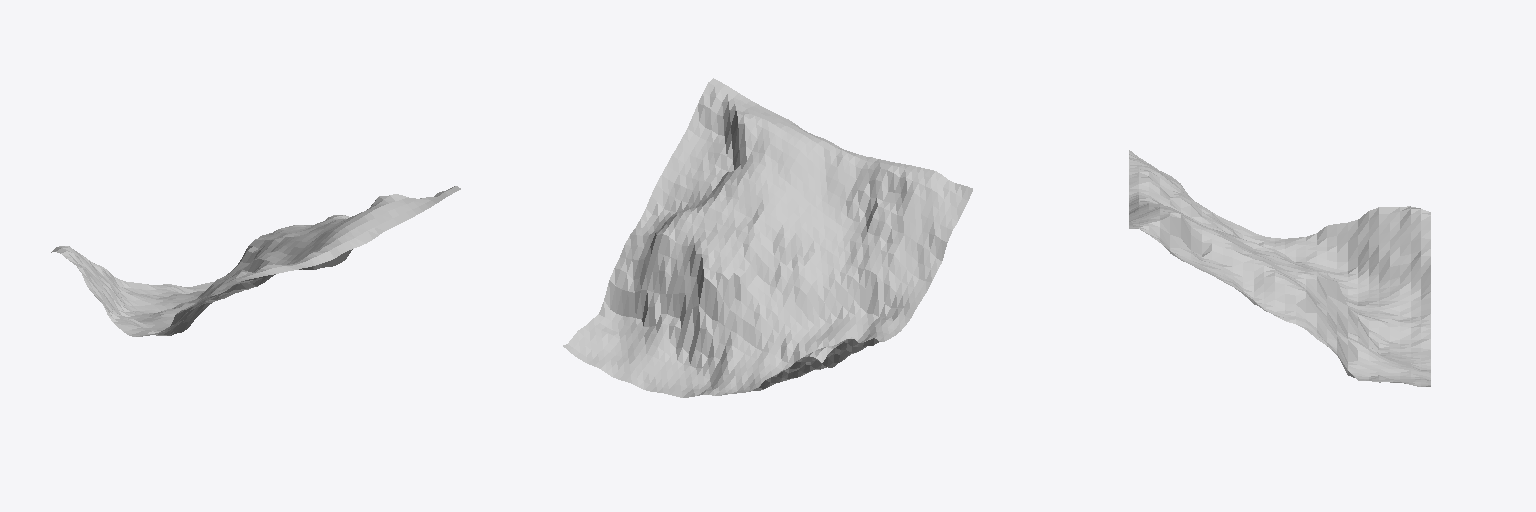
Rendered from bucegi.obj.
3 renders of one model, left to right at view 1: azimuth 30°, elevation 25°; view 2: azimuth 150°, elevation 25°; view 3: azimuth 270°, elevation 25°, orthographic.
Parts seen in each view (by area): view 1: Terrain; view 2: Terrain; view 3: Terrain.
Part boxes in pixels (x1,y1,x2,y2): Terrain: (51,186,460,336); Terrain: (563,78,972,397); Terrain: (1129,150,1430,386).
Size of the model in its own units: 889 by 592 by 897.